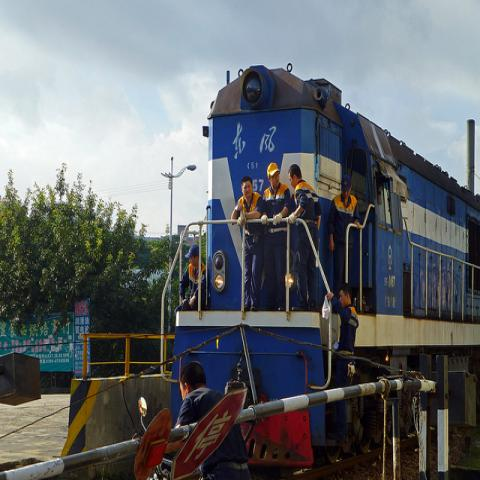motorcycle: (138, 397, 204, 479)
